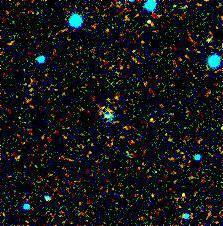star: (134, 4, 164, 34)
